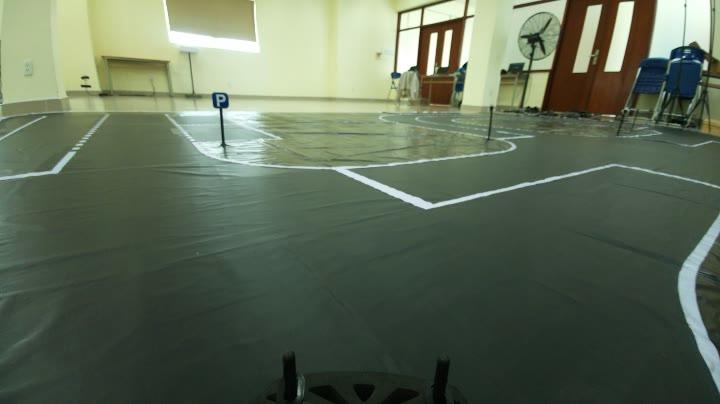parking: (206, 88, 229, 112)
